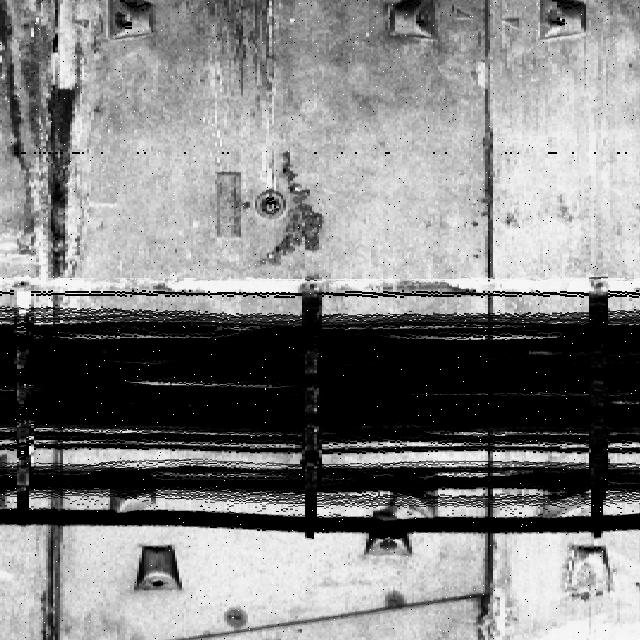leakage: (1, 0, 100, 279)
